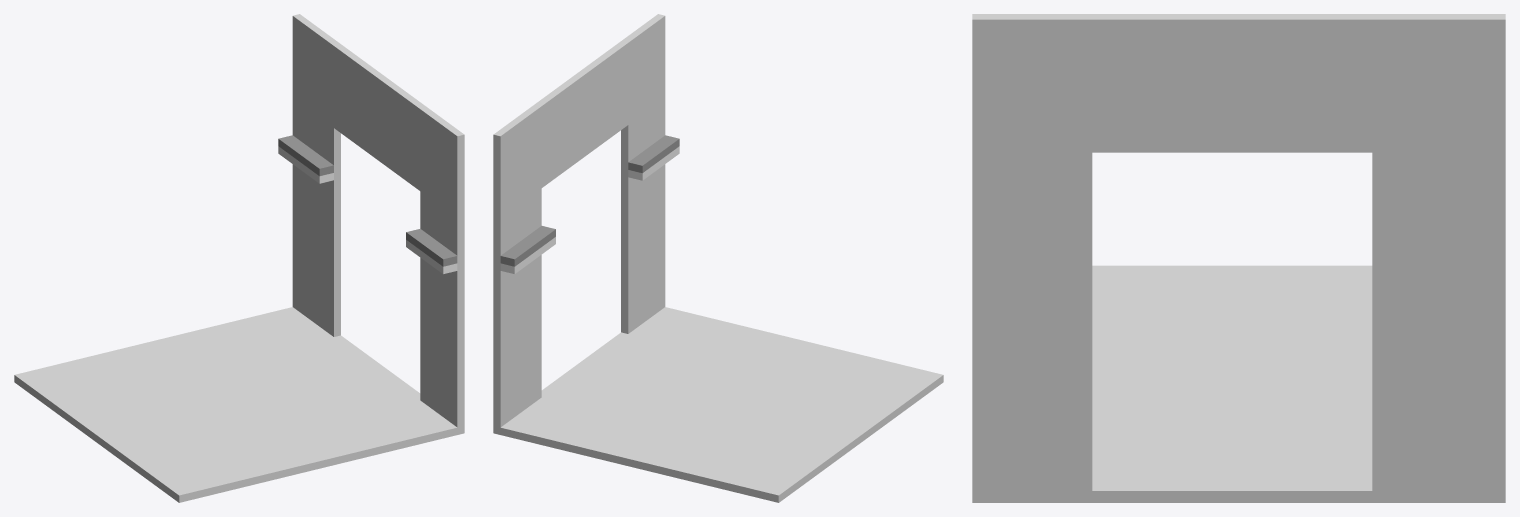
The model's file is Wall_for_door_Ver3.obj.
3 views of the same model, side by side, from view 1: azimuth 30°, elevation 25°; view 2: azimuth 150°, elevation 25°; view 3: azimuth 270°, elevation 25° (orthographic). The views are drawn at different scales.
Size of the model in its own units: 4 by 4 by 4.
